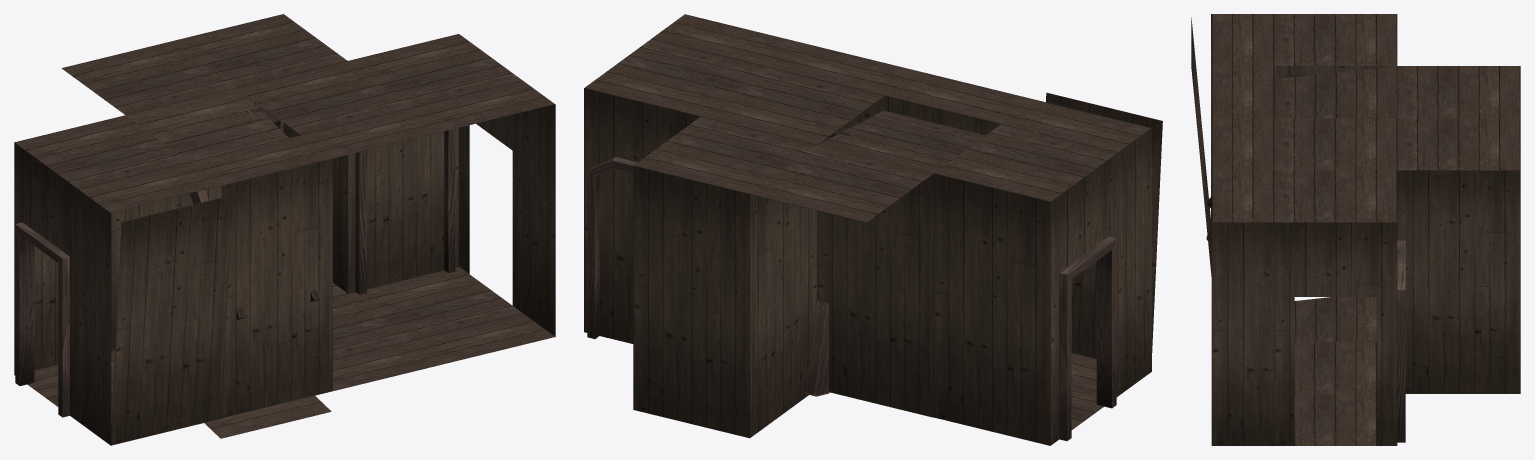
Rendered from Hallway_Stage-4.fbx.
3 views of the same model, side by side, from view 1: azimuth 30°, elevation 25°; view 2: azimuth 150°, elevation 25°; view 3: azimuth 270°, elevation 25° (orthographic). The views are drawn at different scales.
Parts seen in each view (by area): view 1: Wall_W_3x1_5__1_, Wall_W_3x1_5__4_, Wall_W_3x1_5__2_, Wall_W_3x0_75_Single_Faced, Wall_W_3x0_75_Single_Faced__1_, Floor_T_1_5x1_5_1, Floor_T_1_5x1_5__1__1, Floor_T_1_5x1_5__5_, Floor_T_1_5x1_5__2__1, Floor_T_1_5x1_5__4__1, Floor_T_1_5x1_5__2_, Floor_T_1_5x1_5__3__1 (+16 smaller); view 2: Wall_W_3x1_5, Wall_W_3x1_5__1__1, Wall_W_3x1_5_1, Wall_W_3x1_5__3_, Wall_W_3x1_5__2_, Wall_W_3x0_75_Single_Faced, Floor_T_1_5x1_5__5_, Floor_T_1_5x1_5__1__1, Floor_T_1_5x1_5__2__1, Floor_T_1_5x1_5__4__1, Floor_T_1_5x1_5_1, Wall_W_3x1_5_Door (+13 smaller); view 3: Wall_W_3x1_5__5_, Wall_W_3x1_5_Door__2_, Wall_W_3x0_75_Single_Faced__1_, Floor_T_1_5x1_5_1, Floor_T_1_5x1_5__5_, Floor_T_1_5x1_5__1__1, Floor_T_1_5x1_5__2__1, Floor_T_1_5x1_5__4__1, Floor_T_1_5x1_5__3__1, Floor_T_1_5x1_5__1_, Floor_T_1_5x1_5__2_, Floor_T_1_5x1_5__3_ (+8 smaller).
Boxes of the visible parts, x1,y1,x2,y2 form: Wall_W_3x1_5__1_: [111, 195, 232, 445]; Wall_W_3x1_5__4_: [221, 158, 332, 418]; Wall_W_3x1_5__2_: [348, 128, 458, 293]; Wall_W_3x0_75_Single_Faced: [78, 189, 111, 445]; Wall_W_3x0_75_Single_Faced__1_: [523, 104, 555, 336]; Floor_T_1_5x1_5_1: [173, 14, 347, 87]; Floor_T_1_5x1_5__1__1: [237, 61, 411, 134]; Floor_T_1_5x1_5__5_: [61, 41, 235, 114]; Floor_T_1_5x1_5__2__1: [348, 34, 522, 107]; Floor_T_1_5x1_5__4__1: [15, 115, 189, 189]; Floor_T_1_5x1_5__2_: [348, 266, 522, 340]; Floor_T_1_5x1_5__3__1: [126, 88, 288, 161]; Wall_W_3x1_5: [934, 173, 1050, 445]; Wall_W_3x1_5__1__1: [633, 166, 749, 438]; Wall_W_3x1_5_1: [817, 173, 933, 417]; Wall_W_3x1_5__3_: [750, 194, 817, 437]; Wall_W_3x1_5__2_: [584, 88, 700, 343]; Wall_W_3x0_75_Single_Faced: [1117, 128, 1152, 396]; Floor_T_1_5x1_5__5_: [750, 145, 933, 222]; Floor_T_1_5x1_5__1__1: [701, 67, 884, 144]; Floor_T_1_5x1_5__2__1: [584, 39, 767, 116]; Floor_T_1_5x1_5__4__1: [934, 124, 1117, 201]; Floor_T_1_5x1_5_1: [633, 116, 816, 194]; Wall_W_3x1_5_Door: [1050, 153, 1117, 445]; Wall_W_3x1_5__5_: [1397, 170, 1520, 393]; Wall_W_3x1_5_Door__2_: [1274, 222, 1397, 445]; Wall_W_3x0_75_Single_Faced__1_: [1211, 222, 1273, 445]; Floor_T_1_5x1_5_1: [1397, 118, 1520, 170]; Floor_T_1_5x1_5__5_: [1397, 66, 1520, 118]; Floor_T_1_5x1_5__1__1: [1274, 118, 1397, 170]; Floor_T_1_5x1_5__2__1: [1274, 170, 1397, 222]; Floor_T_1_5x1_5__4__1: [1274, 14, 1397, 65]; Floor_T_1_5x1_5__3__1: [1275, 66, 1397, 118]; Floor_T_1_5x1_5__1_: [1294, 341, 1376, 393]; Floor_T_1_5x1_5__2_: [1294, 394, 1376, 445]; Floor_T_1_5x1_5__3_: [1294, 297, 1376, 341].
Size of the model in its own units: 610 by 327 by 401.
Materials: 6 (6 with a texture image).
